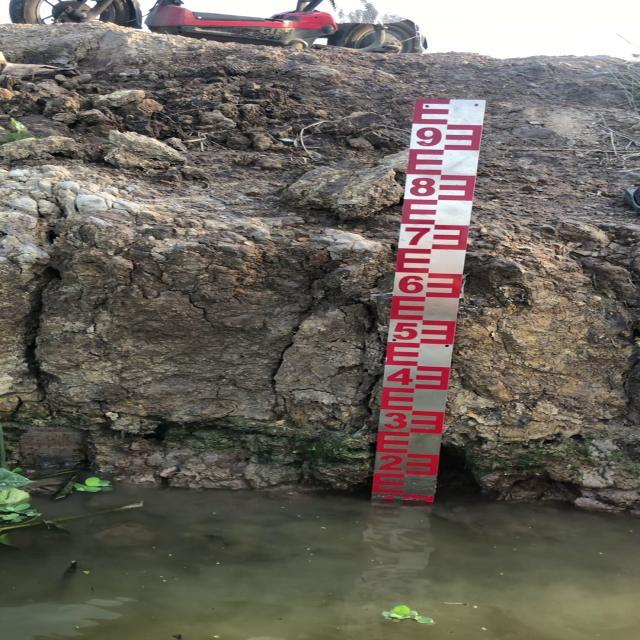ruler: (360, 84, 506, 518)
value: (411, 122, 446, 152), (406, 171, 440, 200), (392, 270, 427, 298), (399, 224, 434, 252), (388, 319, 421, 347), (378, 407, 411, 434), (374, 451, 408, 477), (382, 364, 415, 390)
